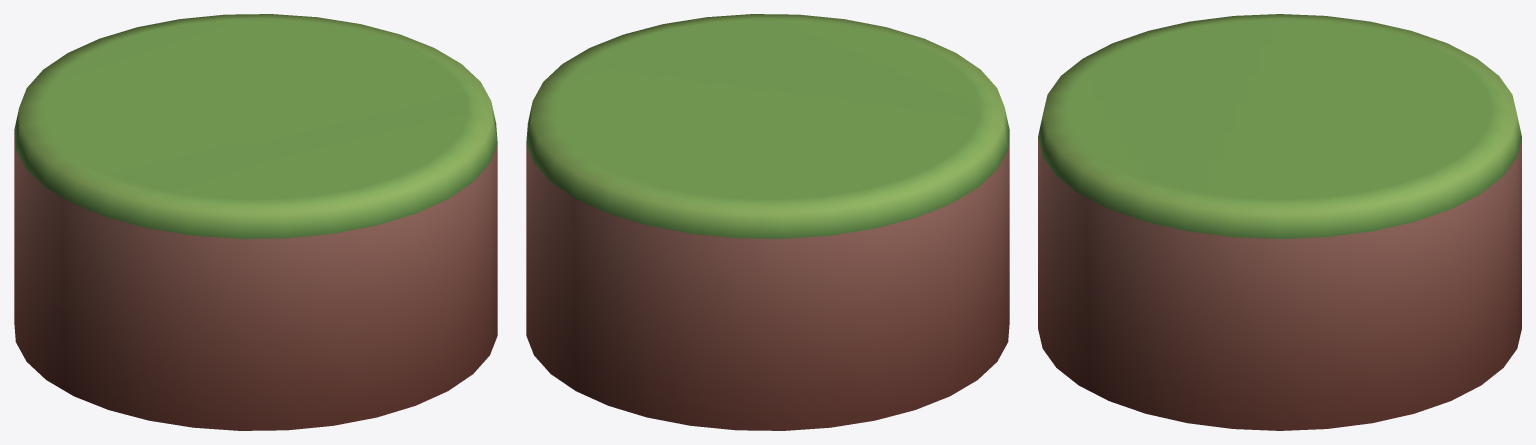
File: Forest_VCillinderBig1.fbx
The picture shows the model from 3 angles, left to right: view 1: azimuth 30°, elevation 25°; view 2: azimuth 150°, elevation 25°; view 3: azimuth 270°, elevation 25°; orthographic projection.
Visible parts, largest first — view 1: Circle.017; view 2: Circle.017; view 3: Circle.017.
Boxes of the visible parts, x1,y1,x2,y2 form: Circle.017: [14, 14, 497, 430]; Circle.017: [526, 14, 1009, 430]; Circle.017: [1038, 14, 1521, 430].
Size of the model in its own units: 200 by 99.83 by 200.
